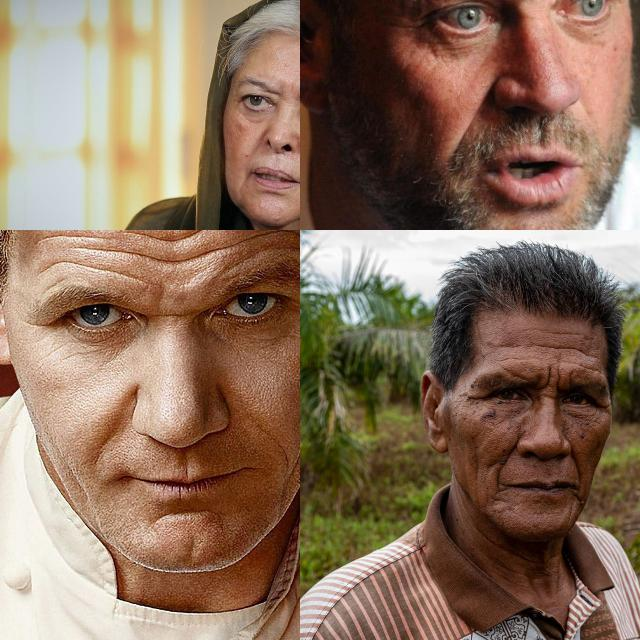chin: (153, 505, 233, 531), (566, 504, 574, 526), (487, 493, 503, 503)
crows_feet: (389, 11, 427, 33), (463, 388, 483, 408), (596, 398, 612, 414)
forehead: (41, 230, 142, 279), (156, 230, 219, 285), (235, 230, 300, 252), (534, 336, 582, 354), (536, 327, 582, 341), (492, 350, 524, 366), (574, 360, 606, 374)
frown_line: (148, 302, 192, 326), (542, 364, 560, 390), (538, 0, 559, 12)
gummy_smile: (458, 83, 490, 143), (497, 440, 518, 474), (570, 452, 586, 476)
masseter: (277, 445, 300, 490)
sad_smile: (238, 170, 252, 200)
